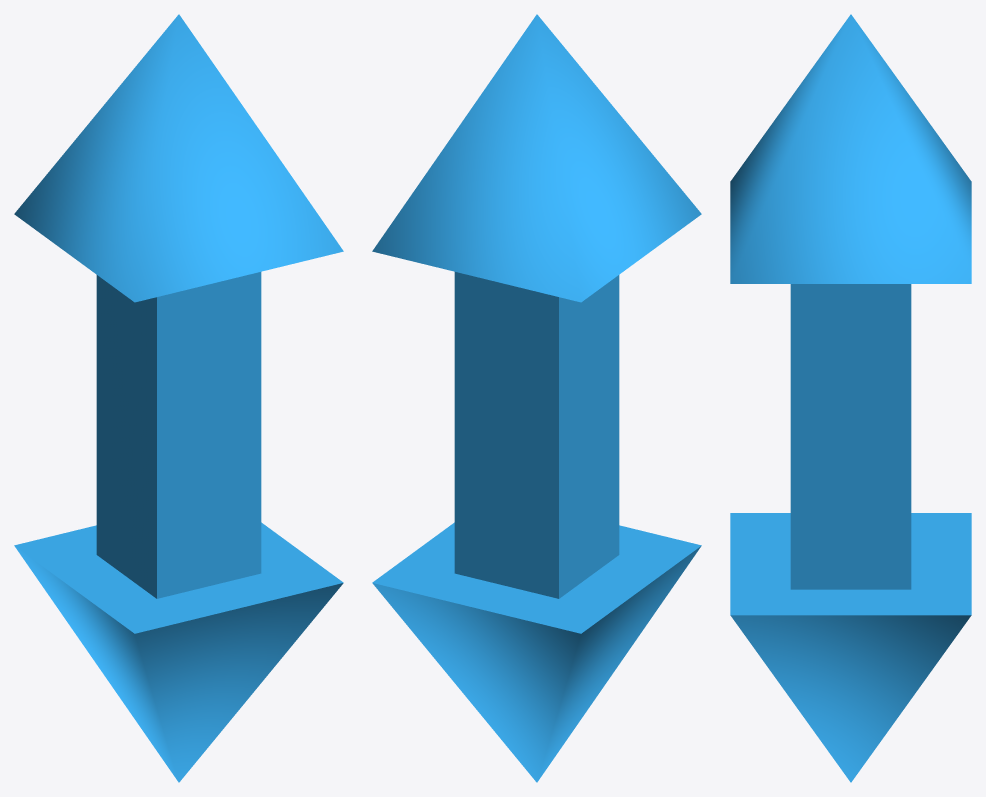
File: GravityPickup.FBX
3 views of the same model, side by side, from view 1: azimuth 30°, elevation 25°; view 2: azimuth 150°, elevation 25°; view 3: azimuth 270°, elevation 25° (orthographic).
Parts seen in each view (by area): view 1: Pyramide_2; view 2: Pyramide_2; view 3: Pyramide_2.
Part boxes in pixels (<box>): Pyramide_2: <box>14,14,343,782</box>; Pyramide_2: <box>372,14,701,782</box>; Pyramide_2: <box>730,14,971,782</box>.
Bounding box in the file's own units: 1.97 × 1.97 × 6.92.
